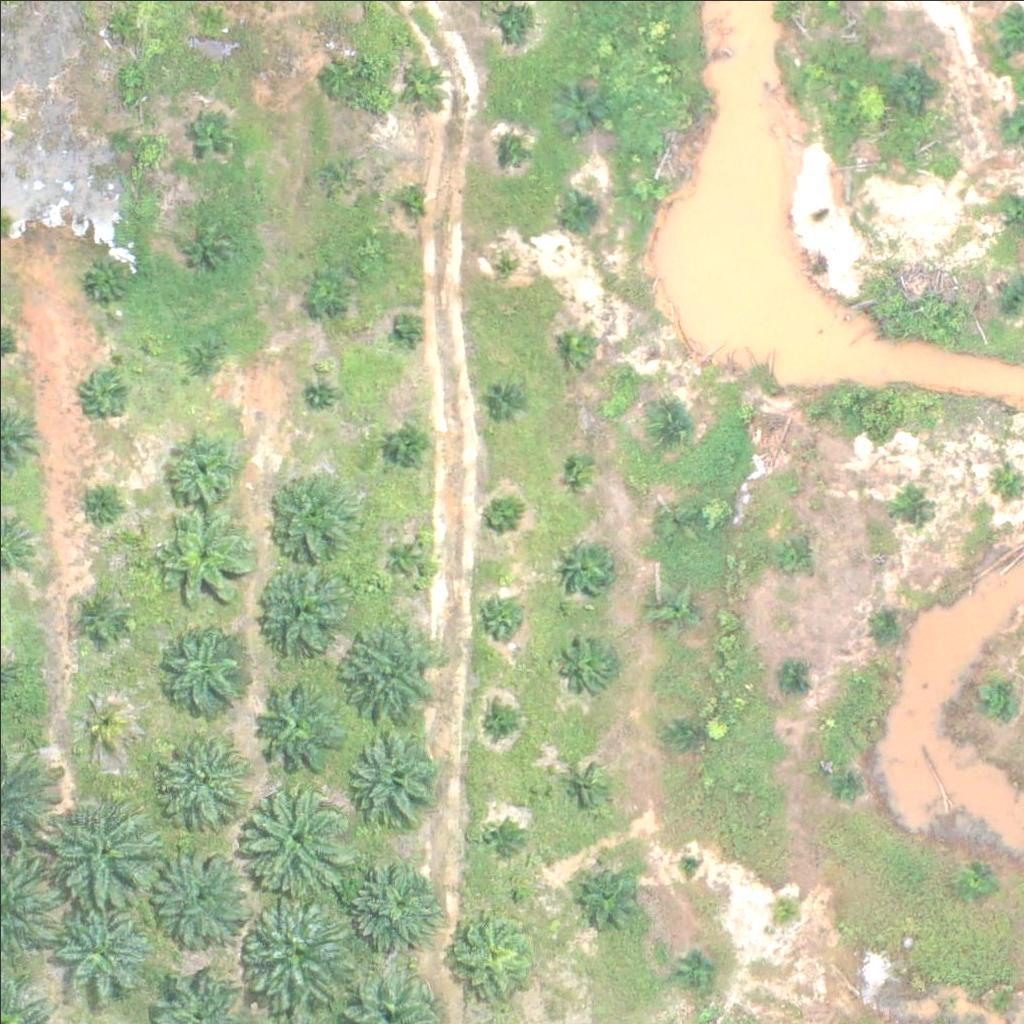Kelapa_Sawit: (236, 889, 361, 1014), (236, 770, 361, 895), (41, 790, 154, 903), (50, 901, 150, 1002), (151, 846, 251, 947), (340, 849, 440, 950), (343, 721, 443, 822), (438, 903, 538, 1004), (153, 511, 253, 612), (335, 619, 435, 720), (152, 729, 240, 818), (158, 423, 246, 511), (267, 474, 355, 562), (255, 566, 343, 654), (248, 679, 336, 767), (159, 634, 246, 722), (580, 860, 643, 923), (554, 533, 616, 596), (309, 51, 359, 102), (563, 642, 613, 693), (396, 57, 446, 108), (550, 318, 600, 369), (647, 585, 697, 636), (75, 594, 125, 644), (81, 365, 131, 415), (78, 251, 128, 301), (181, 112, 231, 162), (181, 219, 231, 269), (174, 333, 224, 383), (301, 263, 351, 313), (382, 423, 432, 473), (554, 79, 604, 129), (885, 59, 935, 109), (74, 694, 124, 744), (379, 532, 429, 582), (474, 596, 524, 646), (562, 190, 600, 228), (669, 713, 707, 751), (766, 888, 804, 926), (475, 819, 513, 857), (977, 676, 1014, 714), (318, 154, 356, 191), (559, 447, 597, 484), (482, 702, 519, 740), (564, 769, 601, 807), (769, 659, 807, 696), (894, 483, 931, 521), (652, 501, 690, 538), (480, 498, 517, 536), (683, 949, 720, 987), (100, 4, 137, 42), (484, 375, 521, 412), (652, 403, 689, 440), (872, 611, 909, 648), (775, 533, 812, 570), (955, 866, 992, 903), (824, 768, 861, 805), (395, 317, 420, 342), (402, 187, 427, 212), (490, 248, 515, 273), (496, 136, 521, 161), (85, 491, 110, 516), (676, 852, 701, 877), (308, 381, 332, 406)
